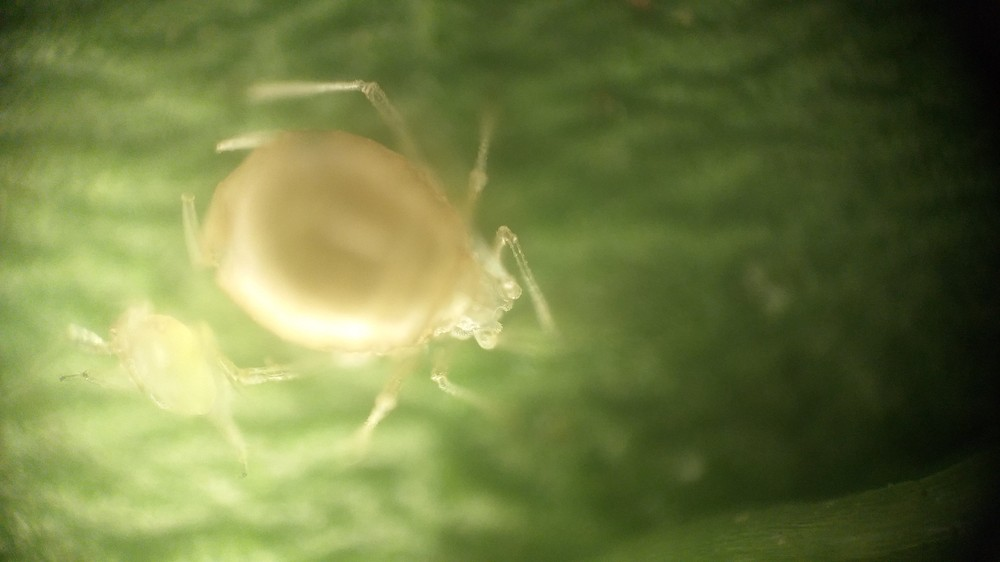Pulgon: (165, 60, 587, 476)
